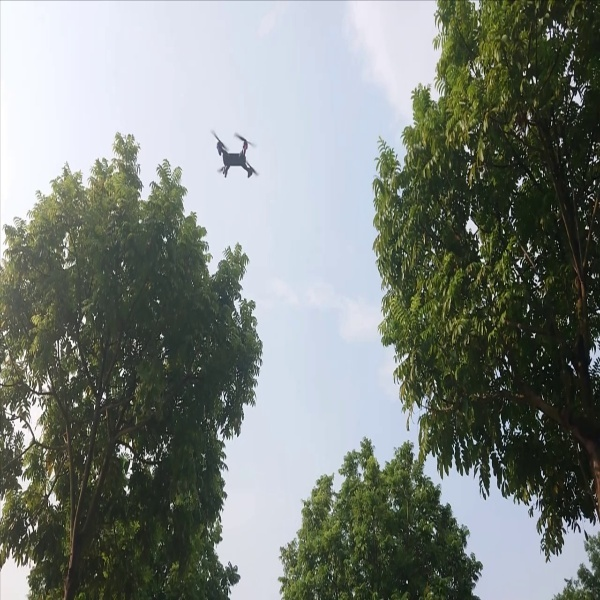drone: (201, 119, 267, 187)
